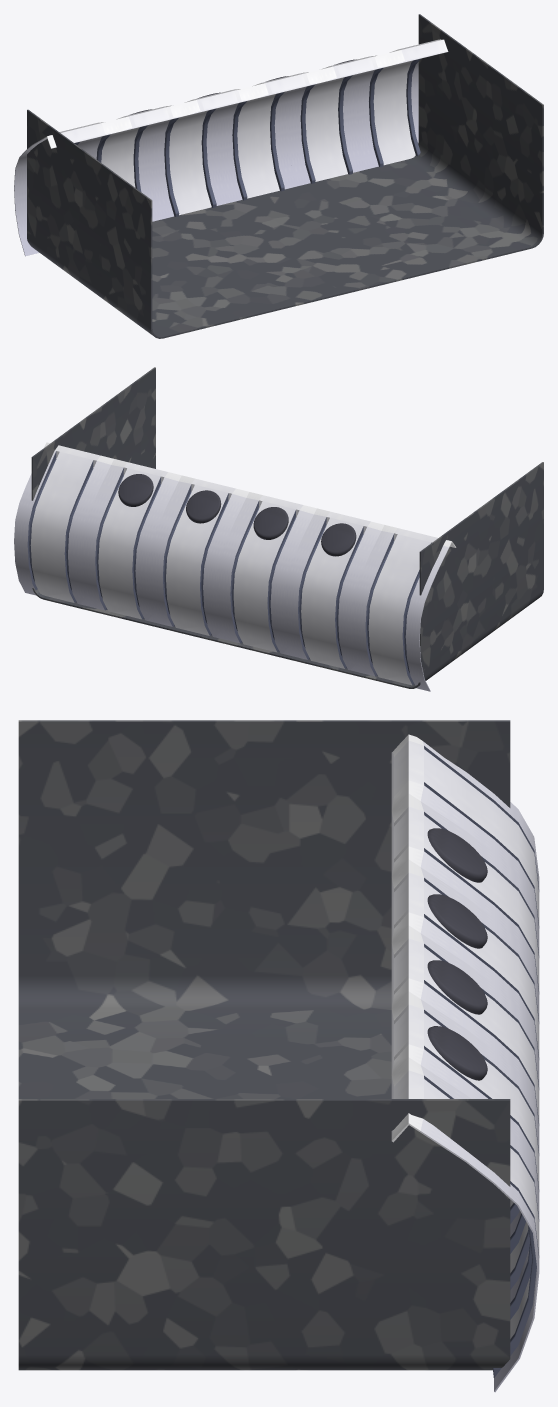
Rendered from Scene_Placeholder.fbx.
3 renders of one model, top to bottom at view 1: azimuth 30°, elevation 25°; view 2: azimuth 150°, elevation 25°; view 3: azimuth 270°, elevation 25°, orthographic. The views are drawn at different scales.
Visible parts, largest first — view 1: set; view 2: set; view 3: set.
Boxes of the visible parts, x1,y1,x2,y2 form: set: (14, 14, 543, 338); set: (14, 367, 543, 691); set: (18, 720, 539, 1392).
Size of the model in its own units: 7069 by 2348 by 3931.
Materials: 2 (2 with a texture image).
